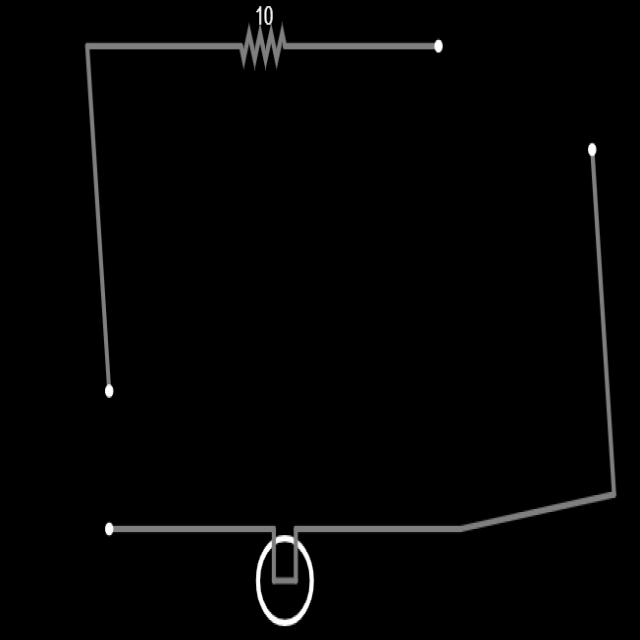Light Bulb: (256, 536, 314, 626)
Resistor: (240, 24, 286, 69)
Wire: (587, 144, 618, 508), (84, 42, 113, 401), (461, 489, 619, 535), (286, 42, 434, 53), (85, 42, 243, 51), (107, 525, 276, 533), (292, 527, 463, 533)
